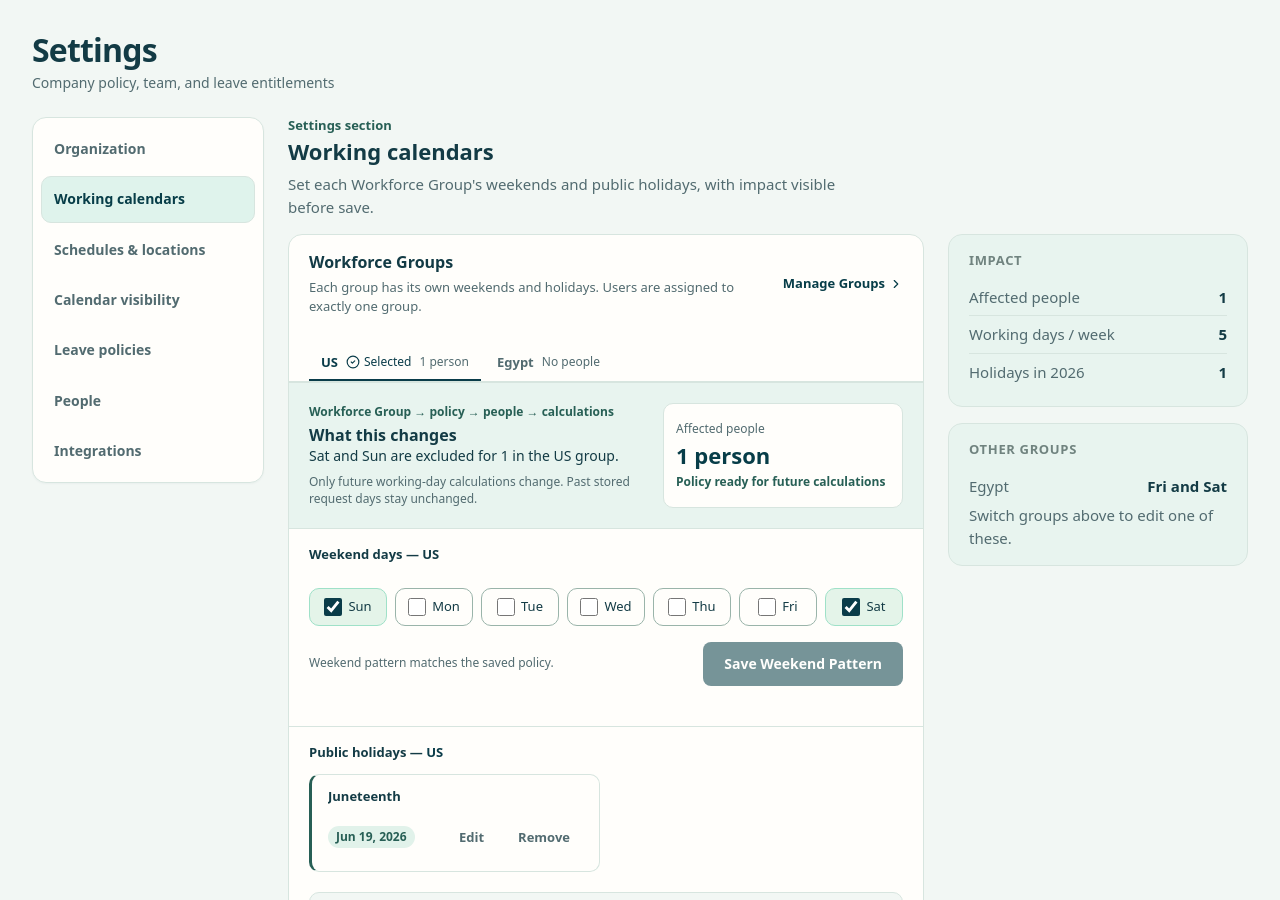
Test case: SettingsPage › [P0] mounts only the selected category panel
Click the tab with test id "settings-category-people" at {"x": 148, "y": 401}, box [41, 378, 255, 424]
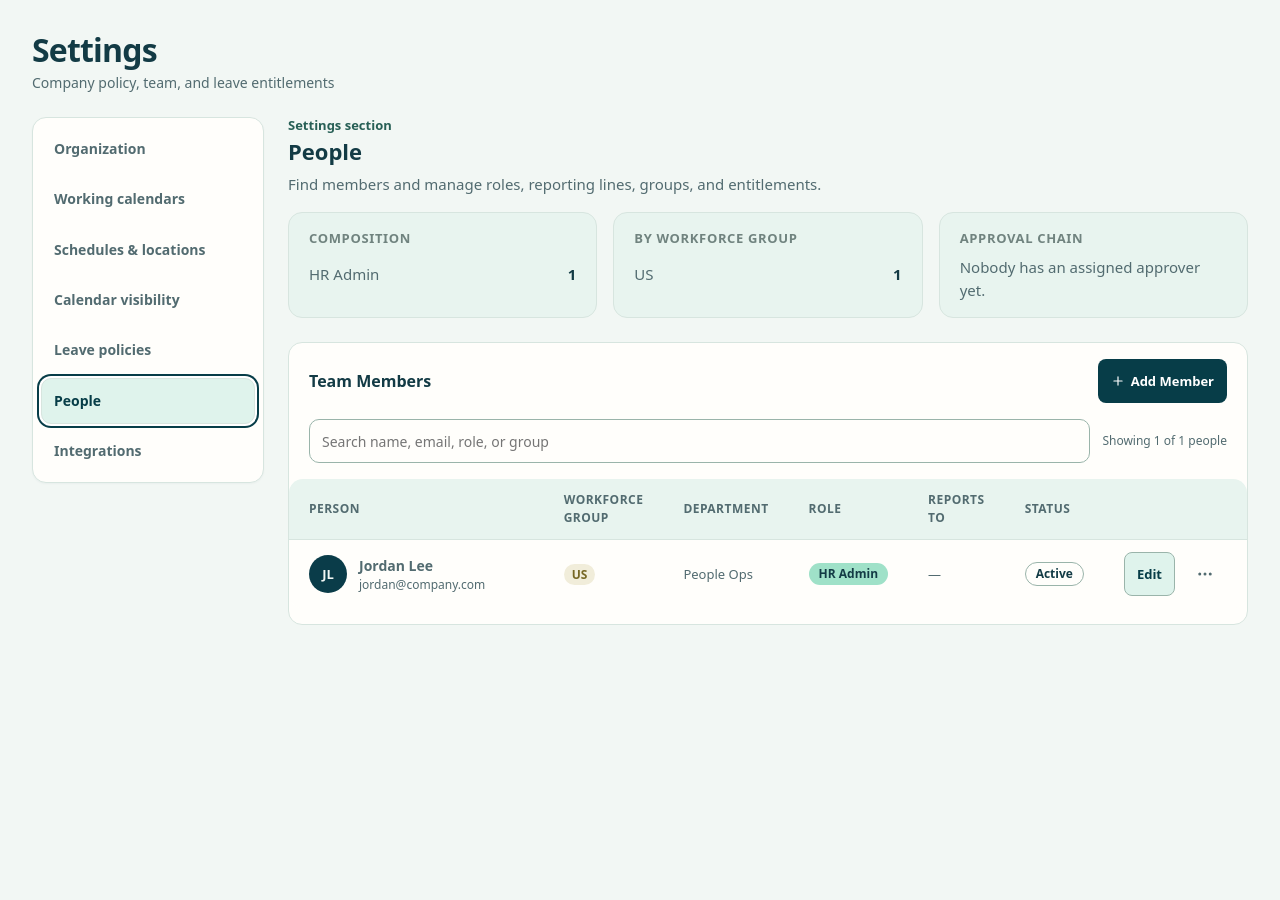
expect the panel with test id "settings-panel-people" is shown: met, box [288, 212, 1248, 626]
expect the element with test id "team-members-card" is shown: met, box [288, 342, 1248, 626]
